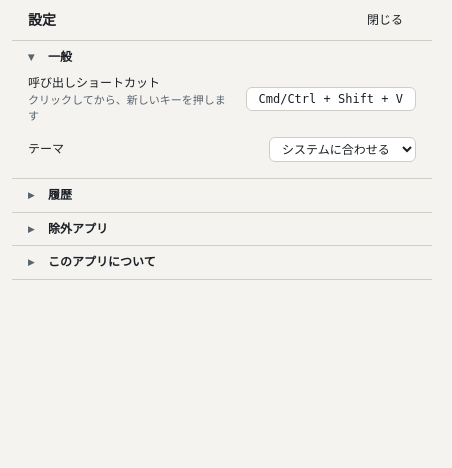
Test: SettingsWindow › 見出しをクリックすると開閉する
Click the button "▸ 除外アプリ": [78, 228] box x1=12 y1=213 x2=432 y2=245
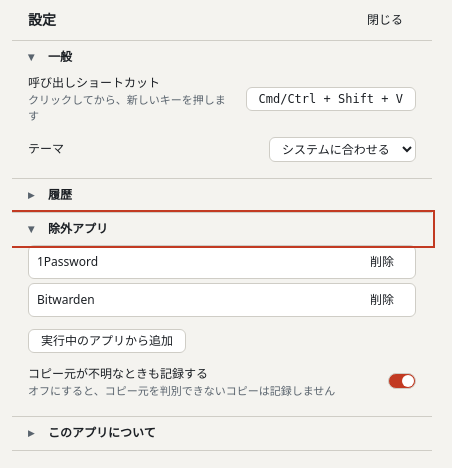
Expected: the list named "除外アプリ" is shown, x1=28 y1=245 x2=416 y2=317
